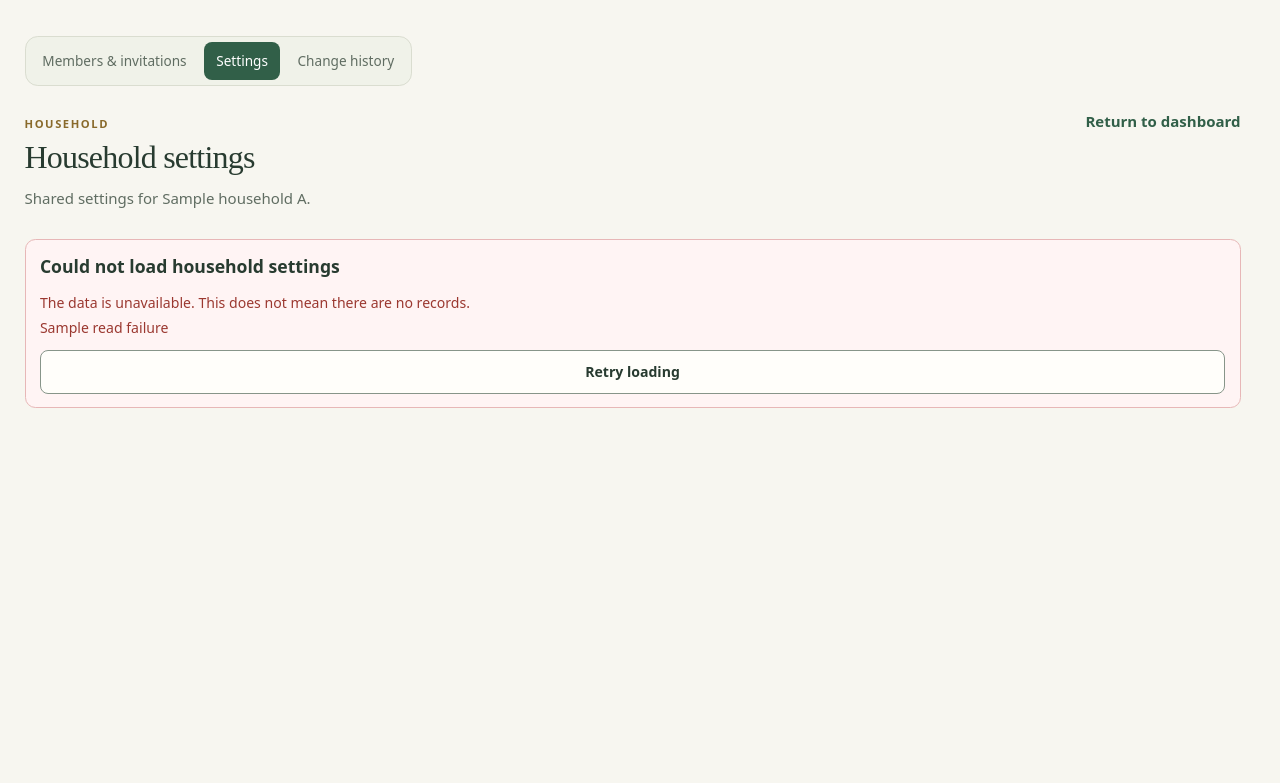
Test case: household settings feedback and editing › stops loading on initial failure and retries reads without suggesting absent settings
Expected: the heading "Could not load household settings" is shown, [40, 254, 340, 278]
Expected: the field labelled "Household name" is not shown
Click the button "Retry loading" at (632, 372), box [40, 350, 1225, 394]
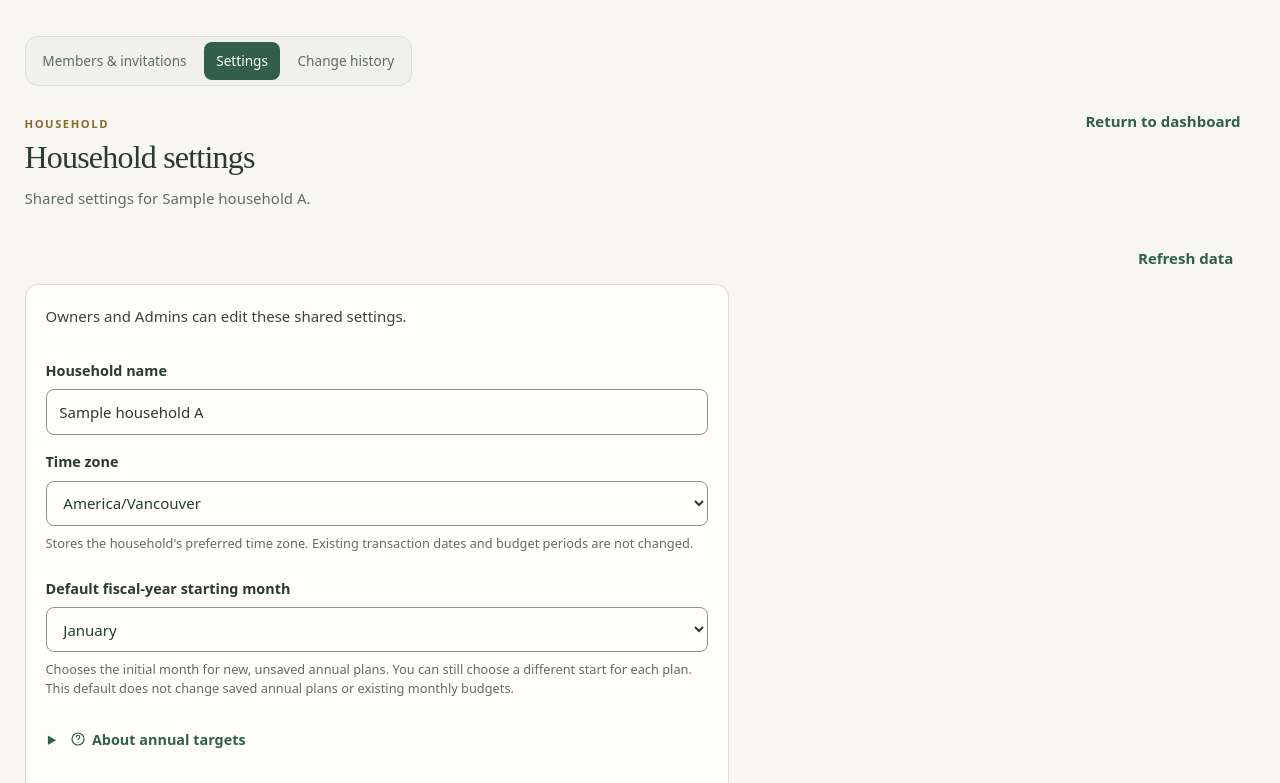
Now the field labelled "Household name" is enabled, box [46, 389, 708, 435]
